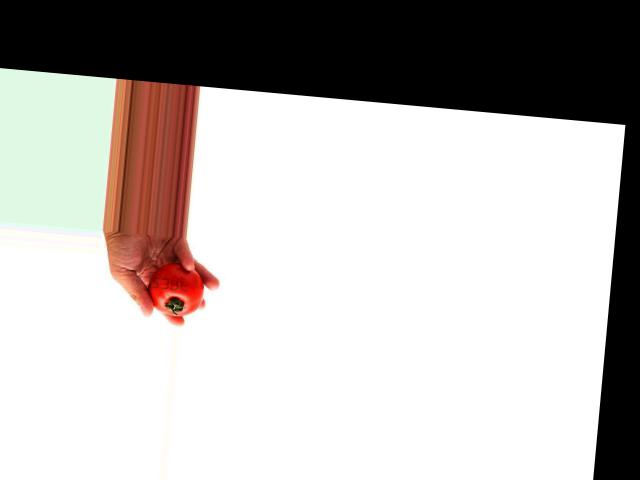tomato: (146, 260, 206, 318)
